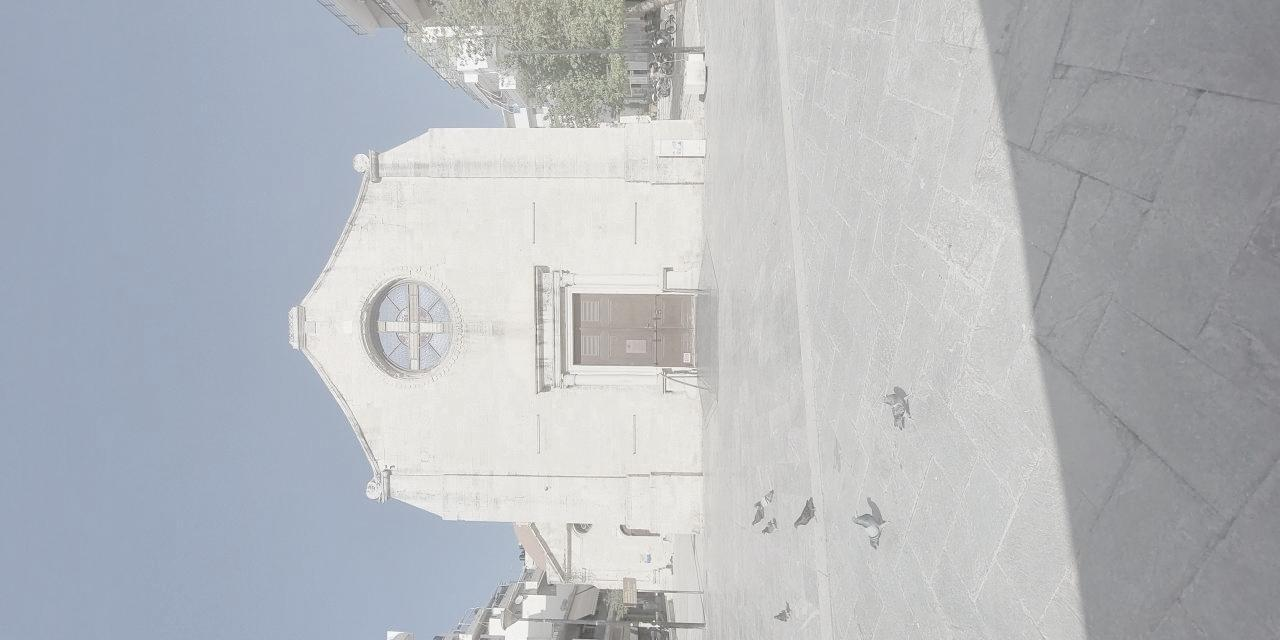Agia Aikaterini: (284, 106, 699, 538)
